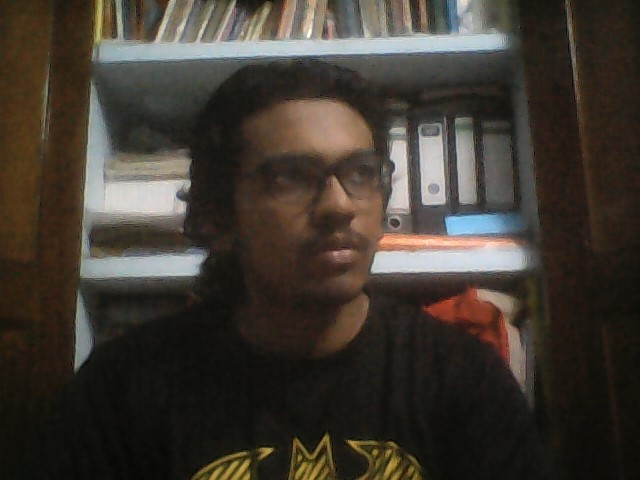person: (69, 53, 520, 446)
